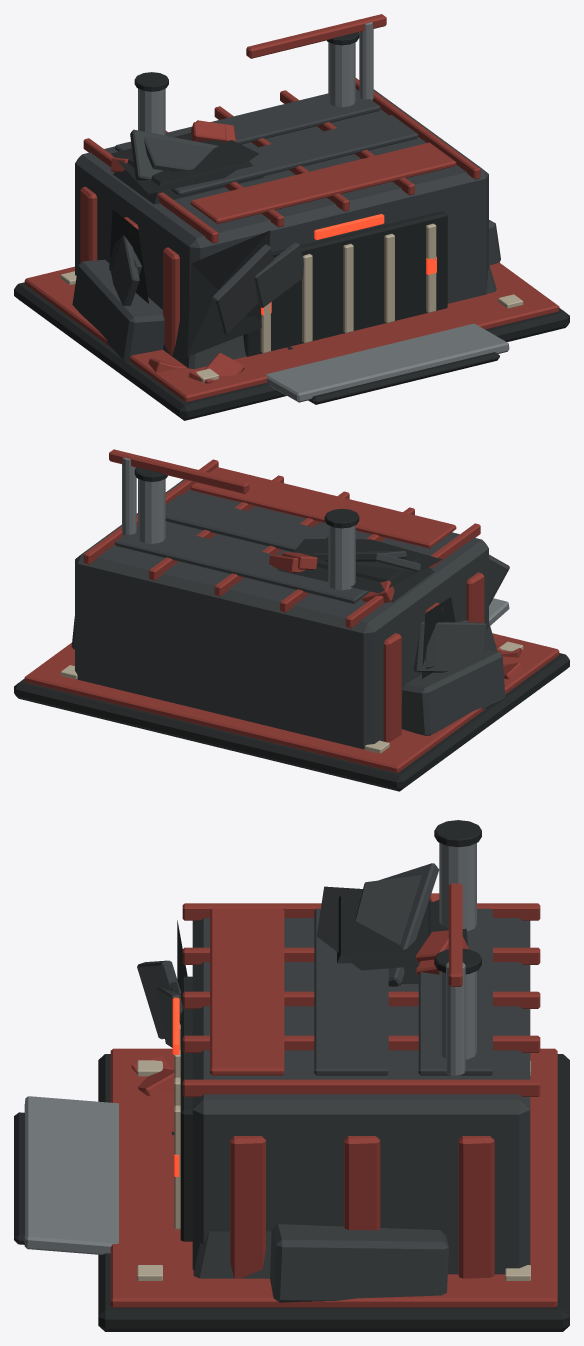
The model's file is ff_en_fac_01_v1.glb.
3 views of the same model, one above another, from view 1: azimuth 30°, elevation 25°; view 2: azimuth 150°, elevation 25°; view 3: azimuth 270°, elevation 25° (orthographic). The views are drawn at different scales.
Parts seen in each view (by area): view 1: FF_EN_FAC_01_M_EnemyObsidianArmor_runtime, FF_EN_FAC_01_M_EnemyCrimsonArmor_runtime, FF_EN_FAC_01_M_EnemyRecess_runtime, FF_EN_FAC_01_M_EnemyGunmetal_runtime, damage_critical_collapse, ruin_collapsed_structure, damage_critical_bent_armor, factory_door_M_EnemyMarking_runtime, damage_damaged_bent_armor, ruin_foundation, crane_yaw_M_EnemyCrimsonArmor_runtime, damage_critical_debris (+5 smaller); view 2: FF_EN_FAC_01_M_EnemyObsidianArmor_runtime, FF_EN_FAC_01_M_EnemyCrimsonArmor_runtime, FF_EN_FAC_01_M_EnemyRecess_runtime, ruin_collapsed_structure, damage_critical_bent_armor, FF_EN_FAC_01_M_EnemyGunmetal_runtime, damage_critical_collapse, crane_yaw_M_EnemyCrimsonArmor_runtime, damage_critical_debris, crane_yaw_M_EnemyGunmetal_runtime, damage_damaged_breach, damage_damaged_bent_armor (+1 smaller); view 3: FF_EN_FAC_01_M_EnemyCrimsonArmor_runtime, FF_EN_FAC_01_M_EnemyObsidianArmor_runtime, FF_EN_FAC_01_M_EnemyRecess_runtime, FF_EN_FAC_01_M_EnemyGunmetal_runtime, ruin_collapsed_structure, damage_critical_collapse, damage_damaged_bent_armor, damage_critical_bent_armor, crane_yaw_M_EnemyGunmetal_runtime, crane_yaw_M_EnemyCrimsonArmor_runtime, ruin_foundation, factory_door_M_EnemyMarking_runtime (+3 smaller).
Part boxes in pixels (x1,y1,x2,y2): FF_EN_FAC_01_M_EnemyObsidianArmor_runtime: (75, 89, 488, 325); FF_EN_FAC_01_M_EnemyCrimsonArmor_runtime: (24, 78, 559, 402); FF_EN_FAC_01_M_EnemyRecess_runtime: (14, 32, 569, 420); FF_EN_FAC_01_M_EnemyGunmetal_runtime: (138, 42, 509, 402); damage_critical_collapse: (111, 132, 270, 356); ruin_collapsed_structure: (72, 220, 500, 369); damage_critical_bent_armor: (108, 129, 273, 334); factory_door_M_EnemyMarking_runtime: (260, 223, 436, 353); damage_damaged_bent_armor: (109, 136, 303, 307); ruin_foundation: (287, 346, 499, 404); crane_yaw_M_EnemyCrimsonArmor_runtime: (246, 14, 386, 58); damage_critical_debris: (110, 120, 244, 376); FF_EN_FAC_01_M_EnemyObsidianArmor_runtime: (75, 479, 488, 749); FF_EN_FAC_01_M_EnemyCrimsonArmor_runtime: (24, 459, 559, 772); FF_EN_FAC_01_M_EnemyRecess_runtime: (14, 467, 569, 791); ruin_collapsed_structure: (71, 616, 505, 735); damage_critical_bent_armor: (314, 552, 509, 672); FF_EN_FAC_01_M_EnemyGunmetal_runtime: (138, 479, 509, 625); damage_critical_collapse: (278, 537, 442, 602); crane_yaw_M_EnemyCrimsonArmor_runtime: (109, 449, 249, 493); damage_critical_debris: (269, 554, 525, 679); crane_yaw_M_EnemyGunmetal_runtime: (122, 457, 136, 535); damage_damaged_breach: (422, 597, 455, 678); damage_damaged_bent_armor: (355, 551, 468, 668); FF_EN_FAC_01_M_EnemyCrimsonArmor_runtime: (110, 903, 557, 1307); FF_EN_FAC_01_M_EnemyObsidianArmor_runtime: (192, 908, 530, 1274); FF_EN_FAC_01_M_EnemyRecess_runtime: (98, 820, 569, 1331); FF_EN_FAC_01_M_EnemyGunmetal_runtime: (24, 843, 476, 1254); ruin_collapsed_structure: (193, 1224, 448, 1302); damage_critical_collapse: (177, 886, 467, 989); damage_damaged_bent_armor: (157, 875, 421, 1047); damage_critical_bent_armor: (137, 863, 439, 1039); crane_yaw_M_EnemyGunmetal_runtime: (446, 962, 465, 1075); crane_yaw_M_EnemyCrimsonArmor_runtime: (448, 883, 462, 986); ruin_foundation: (14, 1112, 174, 1244); factory_door_M_EnemyMarking_runtime: (174, 1023, 180, 1229).
Bounding box in the file's own units: 12.5 × 7.25 × 11.2.
